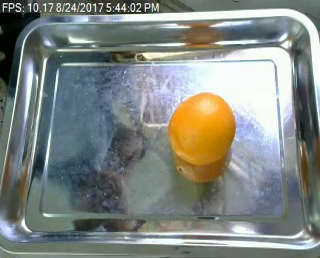Orange: (170, 92, 237, 166)
